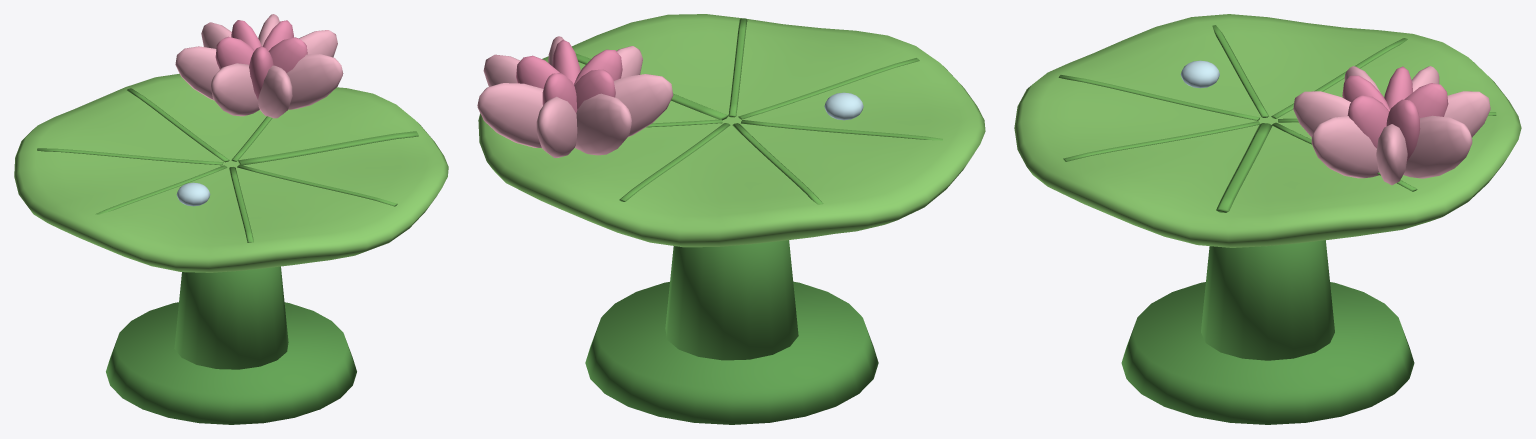
The model's file is lotus-chair.glb.
The picture shows the model from 3 angles, left to right: view 1: azimuth 30°, elevation 25°; view 2: azimuth 150°, elevation 25°; view 3: azimuth 270°, elevation 25°; orthographic projection. The views are drawn at different scales.
Visible parts, largest first — view 1: chair, lotus; view 2: chair, lotus; view 3: chair, lotus.
Part boxes in pixels (bbox=[...]): chair: bbox=[14, 73, 448, 424]; lotus: bbox=[175, 14, 343, 118]; chair: bbox=[478, 14, 985, 424]; lotus: bbox=[477, 36, 673, 157]; chair: bbox=[1014, 14, 1521, 424]; lotus: bbox=[1293, 66, 1490, 185].
Size of the model in its own units: 0.9 by 0.6378 by 0.9.
